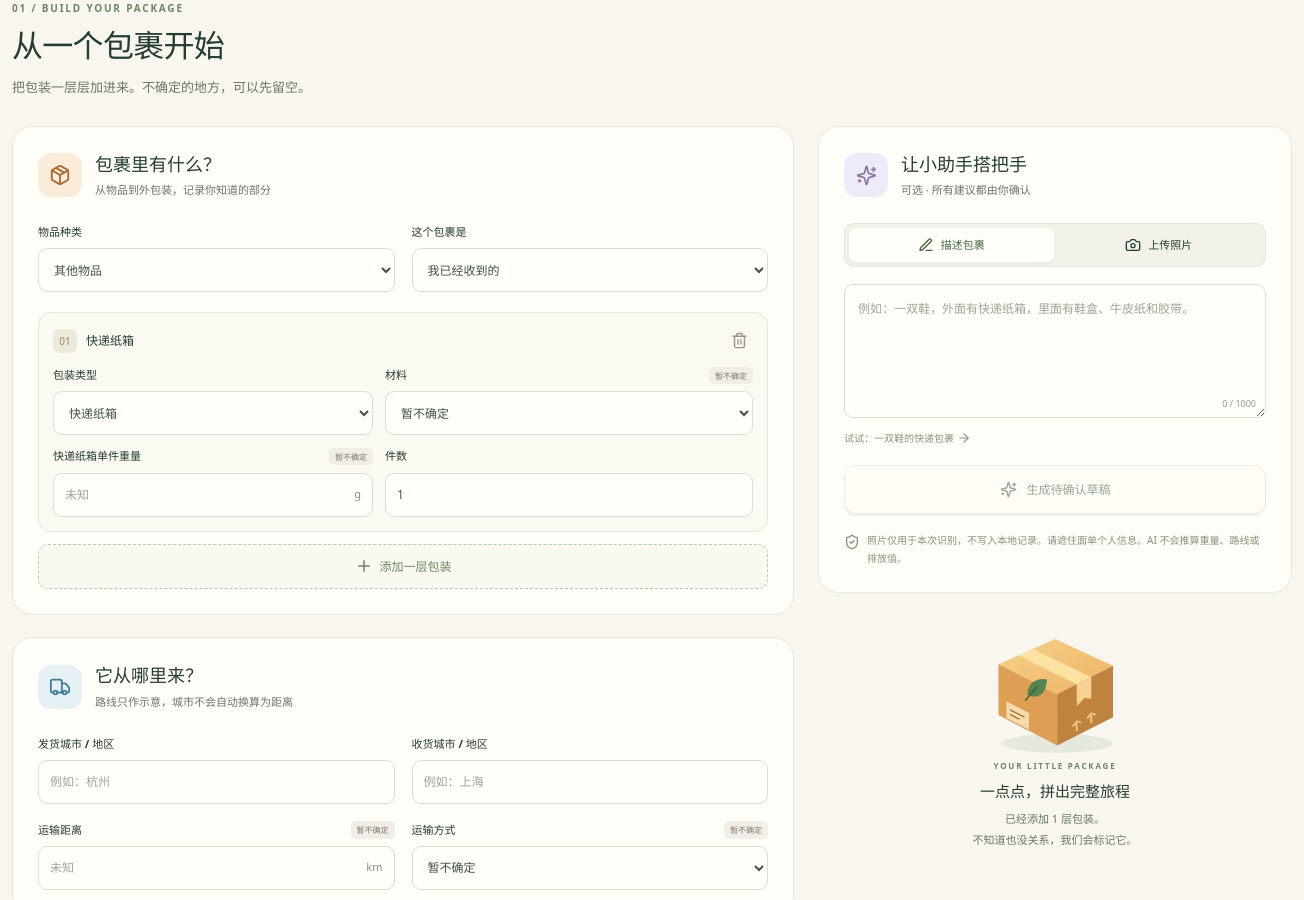
Scenario: assisted input remains a confirm-before-write helper › rejects response fields that could invent carbon values
In the text box named "描述你的包裹": {"x": 1055, "y": 351} [844,284,1266,418], type "牛皮纸填充"
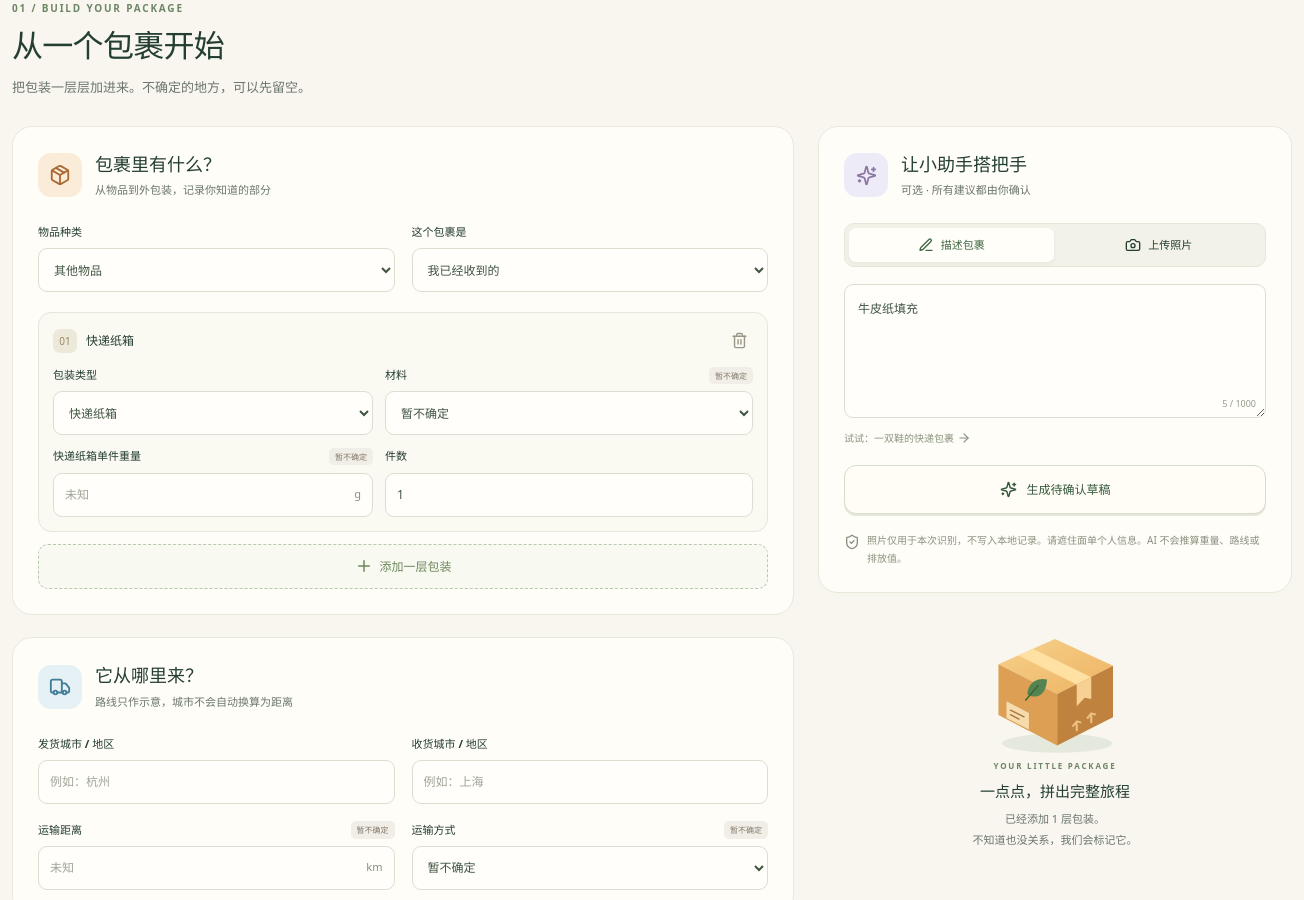
Click the button "生成待确认草稿": {"x": 1055, "y": 490} [844,465,1266,514]
(page scrolled)
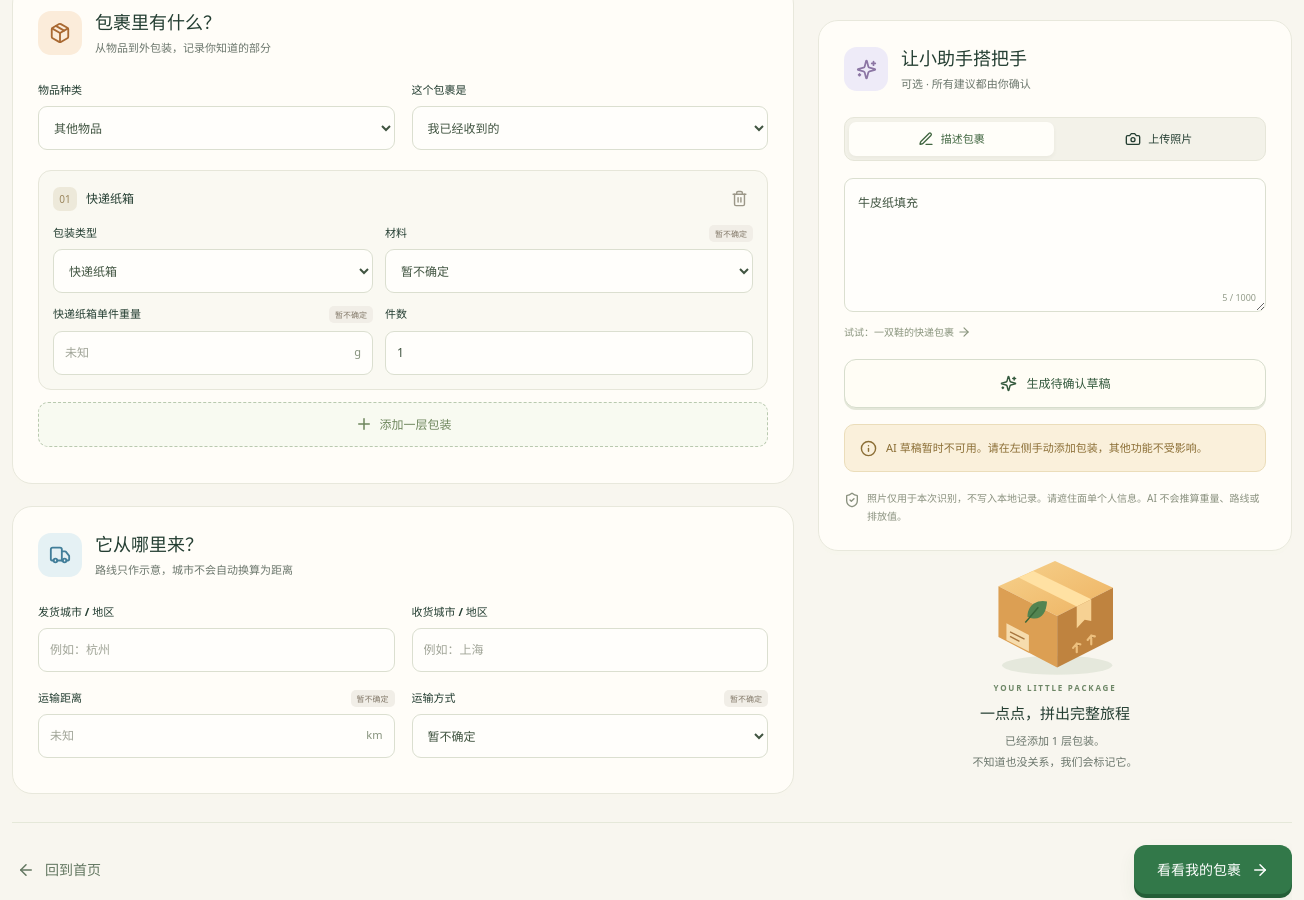
Expected: the button "看看我的包裹" is enabled, [1134,845,1292,894]
Now the message "AI 草稿暂时不可用。请在左侧手动添加包装，其他功能不受影响。" is shown, box [844,424,1266,472]
